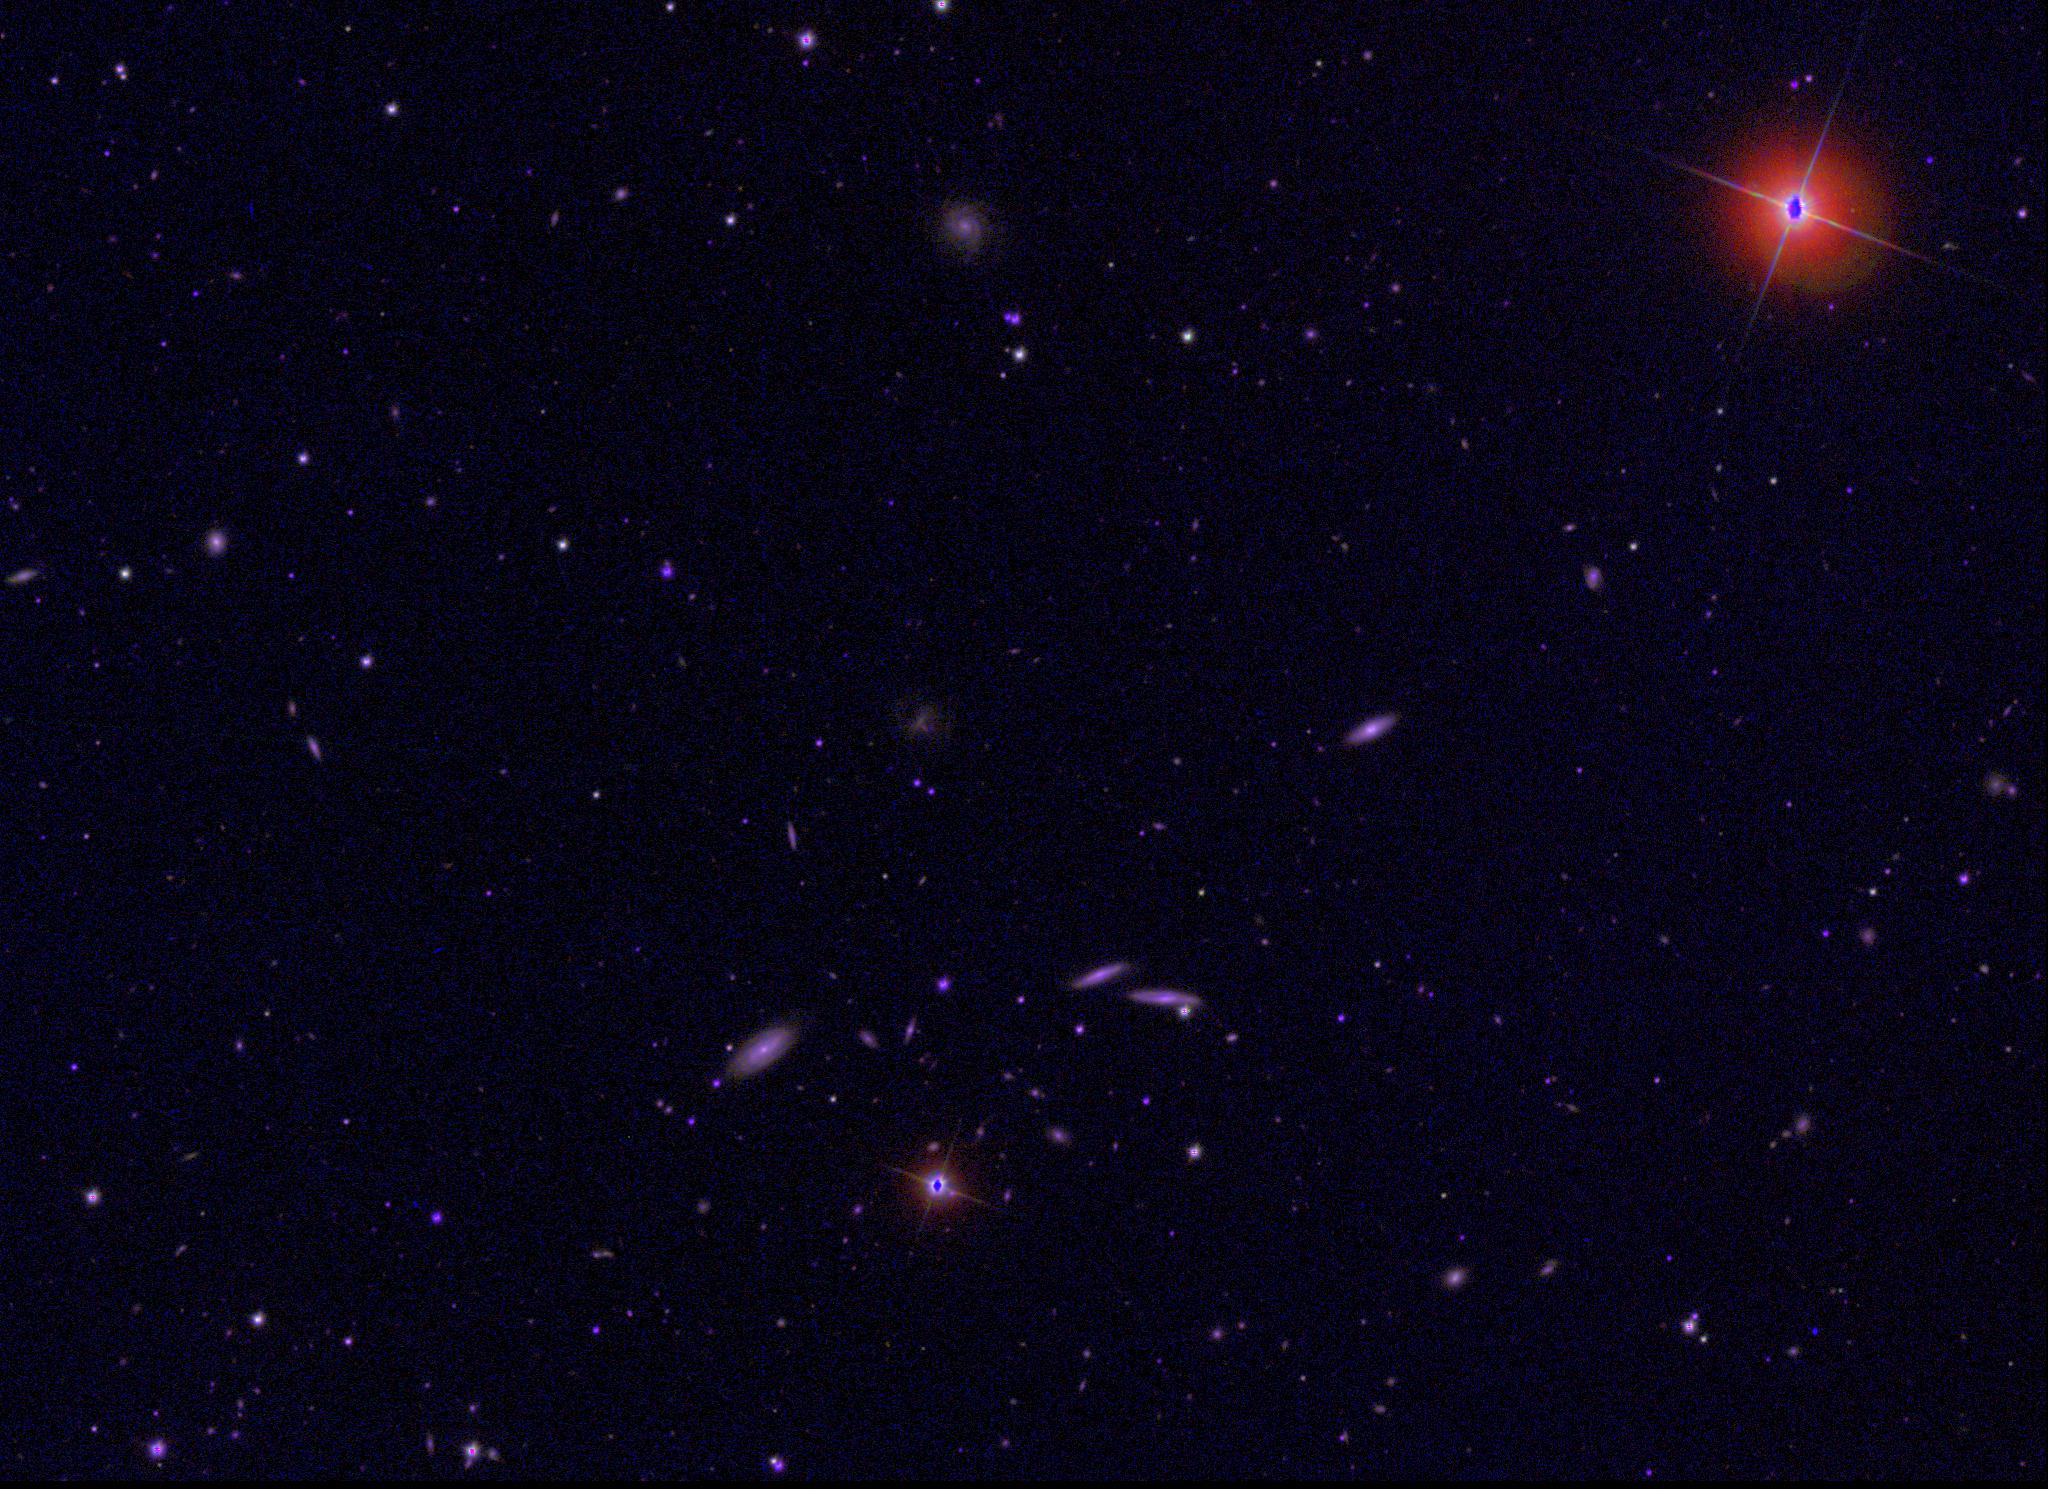L: (1806, 1322, 1821, 1336)
